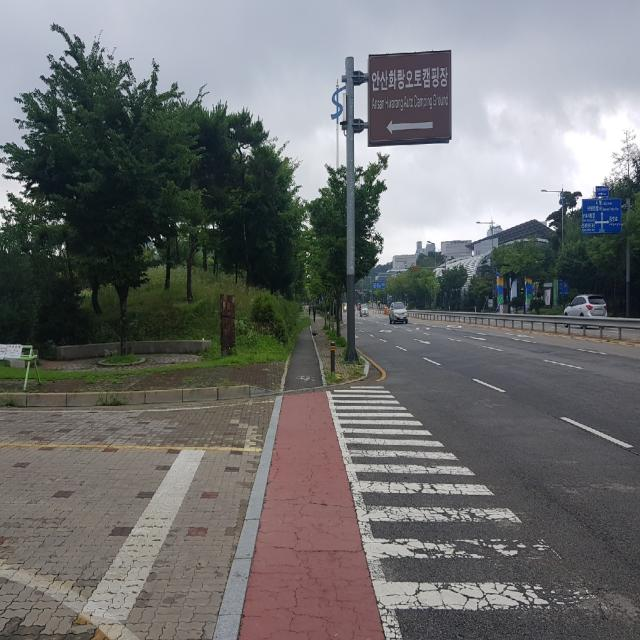횡단보도: (330, 383, 610, 614)
